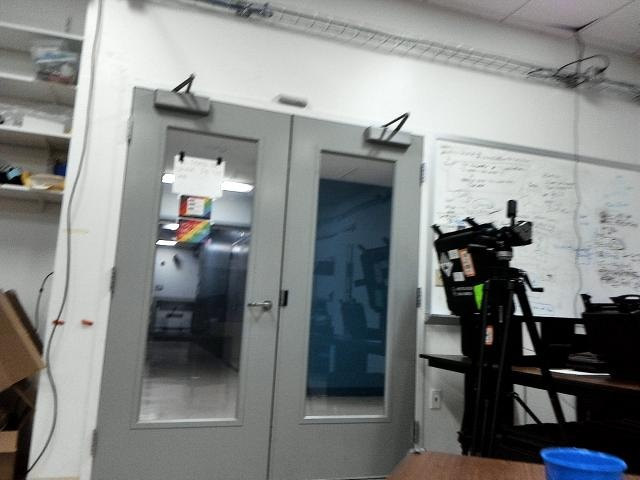water_cup: (536, 441, 635, 480)
